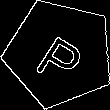P_NE: (29, 23, 90, 85)
